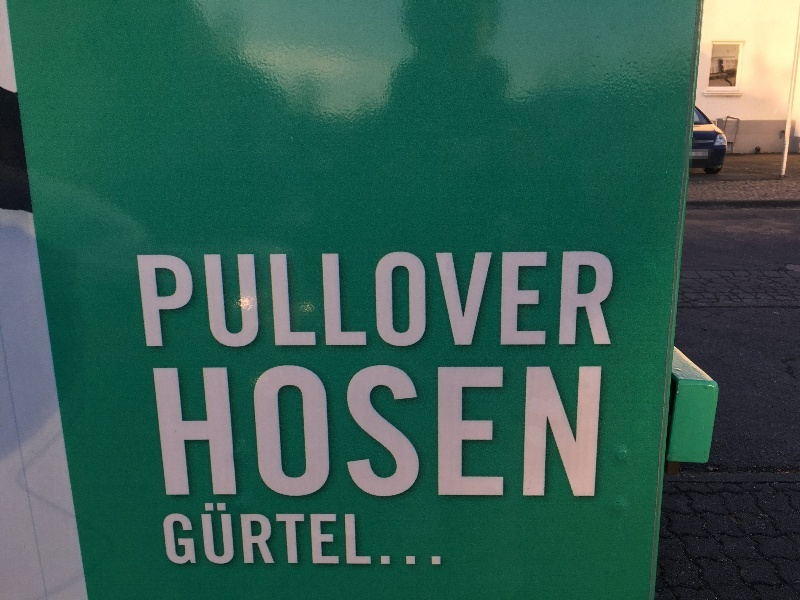text: (161, 365, 176, 498), (177, 365, 192, 498), (193, 365, 208, 498), (209, 365, 224, 498), (225, 365, 240, 498), (241, 365, 256, 498), (257, 365, 272, 498), (273, 365, 288, 498), (289, 365, 304, 498), (305, 365, 320, 498), (321, 365, 336, 498), (337, 365, 352, 498), (353, 365, 368, 498), (369, 365, 384, 498), (385, 365, 400, 498), (401, 365, 416, 498), (417, 365, 432, 498), (433, 365, 448, 498), (449, 365, 464, 498), (465, 365, 480, 498), (481, 365, 496, 498), (497, 365, 512, 498), (513, 365, 528, 498), (529, 365, 544, 498), (545, 365, 560, 498), (561, 365, 576, 498), (577, 365, 592, 498), (145, 251, 160, 349), (161, 251, 176, 349), (177, 251, 192, 349), (193, 251, 208, 349), (209, 251, 224, 349), (225, 251, 240, 349), (241, 251, 256, 349), (257, 251, 272, 349), (273, 251, 288, 349), (289, 251, 304, 349), (305, 251, 320, 349), (321, 251, 336, 349), (337, 251, 352, 349), (353, 251, 368, 349), (369, 251, 384, 349), (385, 251, 400, 349), (401, 251, 416, 349), (417, 251, 432, 349), (433, 251, 448, 349), (449, 251, 464, 349), (465, 251, 480, 349), (481, 251, 496, 349), (497, 251, 512, 349), (513, 251, 528, 349), (529, 251, 544, 349), (545, 251, 560, 349), (561, 251, 576, 349), (577, 251, 592, 349), (593, 251, 608, 349), (593, 365, 602, 498), (152, 365, 160, 498), (161, 498, 176, 568), (177, 498, 192, 568), (193, 498, 208, 568), (209, 498, 224, 568), (225, 498, 240, 568), (241, 498, 256, 568), (257, 498, 272, 568), (273, 498, 288, 568), (289, 498, 304, 568), (305, 498, 320, 568), (321, 498, 336, 568), (337, 498, 352, 568), (353, 498, 368, 568), (369, 498, 384, 568), (385, 498, 400, 568), (401, 498, 416, 568), (417, 498, 432, 568), (136, 251, 144, 349), (433, 498, 442, 568), (609, 251, 614, 349)
